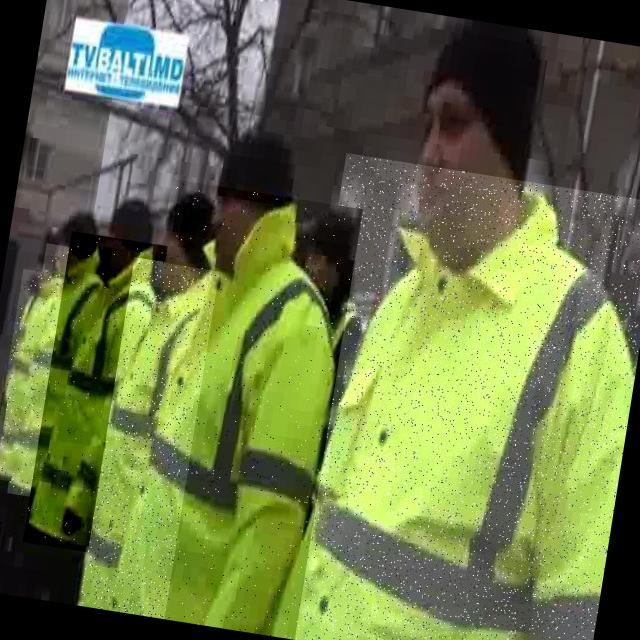Safety Vest: (269, 153, 640, 640), (106, 180, 363, 640), (80, 259, 220, 620), (23, 232, 168, 559), (7, 244, 106, 503), (0, 269, 66, 485)
